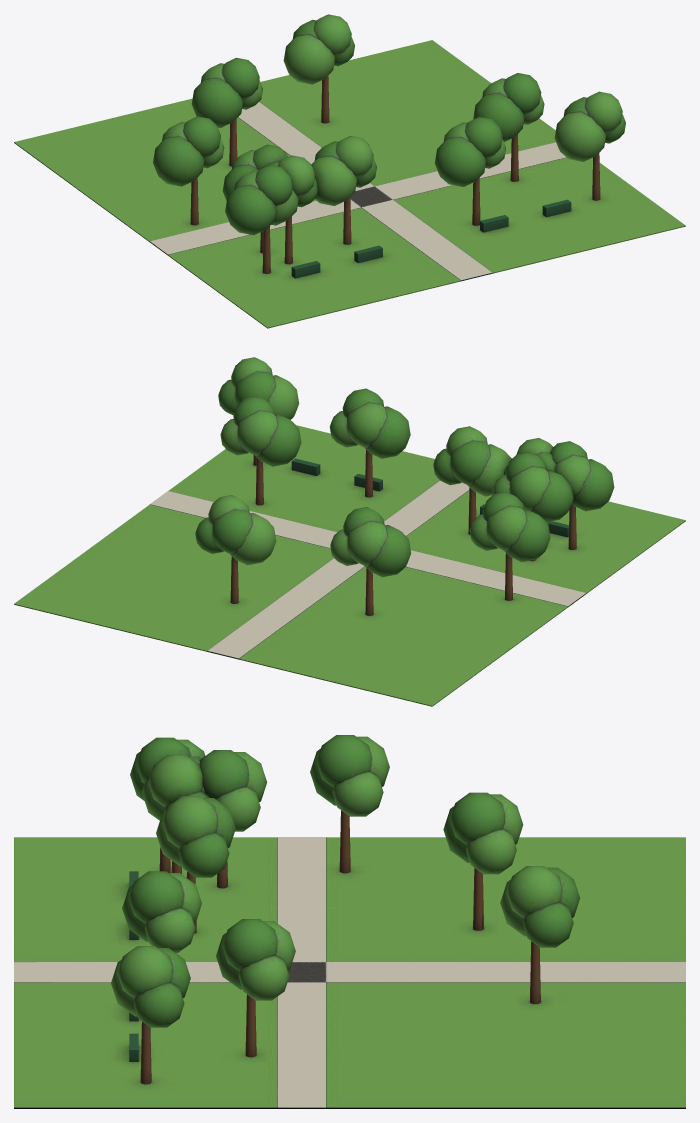
The model's file is madison.glb.
3 views of the same model, one above another, from view 1: azimuth 30°, elevation 25°; view 2: azimuth 150°, elevation 25°; view 3: azimuth 270°, elevation 25° (orthographic). The views are drawn at different scales.
Visible parts, largest first — view 1: madison; view 2: madison; view 3: madison.
Boxes of the visible parts, x1,y1,x2,y2 form: madison: (14, 14, 685, 328); madison: (14, 357, 685, 706); madison: (14, 735, 685, 1108).
Bounding box in the file's own units: 40 × 9.6 × 42.
1 material, 1 textured.
